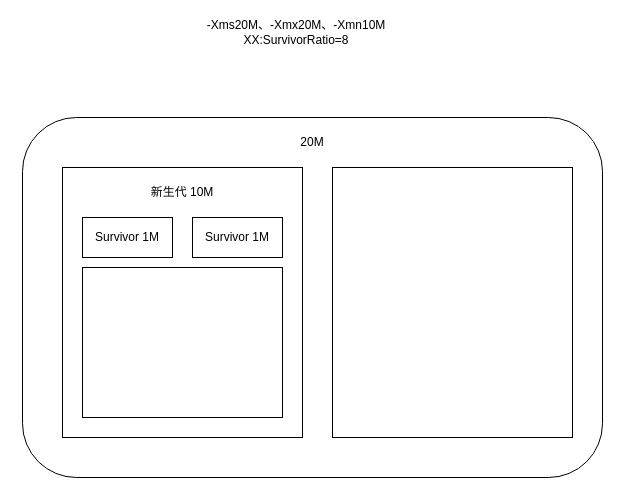
The diagram is 634 pixels wide and 495 high, and some of its shapes have lost their labels. The shapes that lost their labels are listed below. From the top down, each one's box as (x1, y1, x2, y2) in pixels, then its label:
(332, 166, 572, 438): 老年代 10M
(82, 266, 282, 418): Eden 8M
